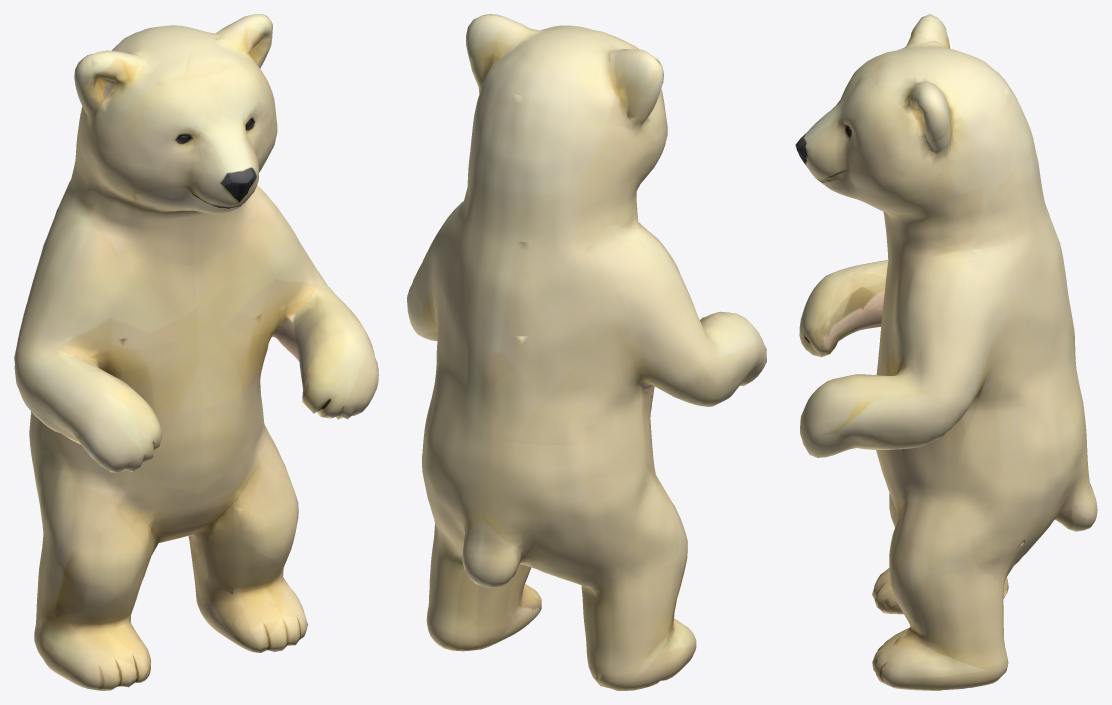
The model's file is Arctic_bear_cup.glb.
The picture shows the model from 3 angles, left to right: view 1: azimuth 30°, elevation 25°; view 2: azimuth 150°, elevation 25°; view 3: azimuth 270°, elevation 25°; orthographic projection. The views are drawn at different scales.
Visible parts, largest first — view 1: Mesh_0; view 2: Mesh_0; view 3: Mesh_0.
Boxes of the visible parts, bbox=[...] form: Mesh_0: bbox=[14, 14, 378, 690]; Mesh_0: bbox=[407, 14, 766, 690]; Mesh_0: bbox=[795, 14, 1097, 690].
Size of the model in its own units: 0.5356 by 1 by 0.4657.
1 material, 1 textured.
